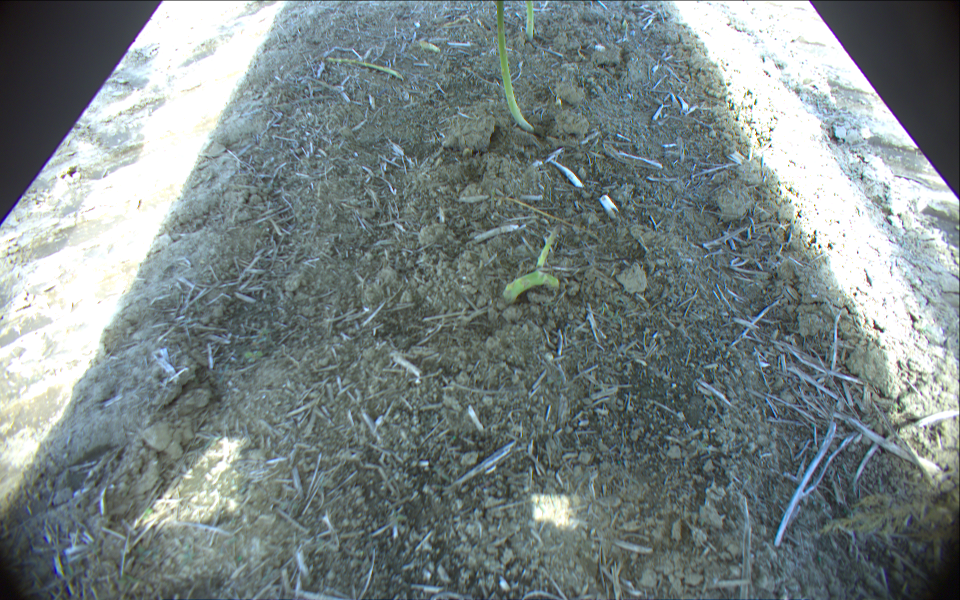aspa: (495, 1, 533, 134), (503, 268, 562, 301), (325, 57, 401, 79), (536, 226, 558, 269), (525, 1, 533, 39), (409, 41, 441, 50)
